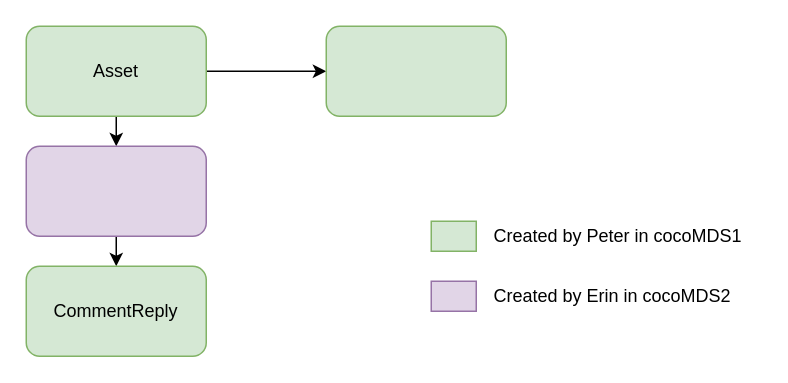
The diagram is 788 pixels wide and 383 high, and some of its shapes have lost their labels. Here are the shapes that lost their labels. From the top down, the box of each, then its label:
(325, 25, 506, 116): Connection
(25, 145, 206, 236): Comment
